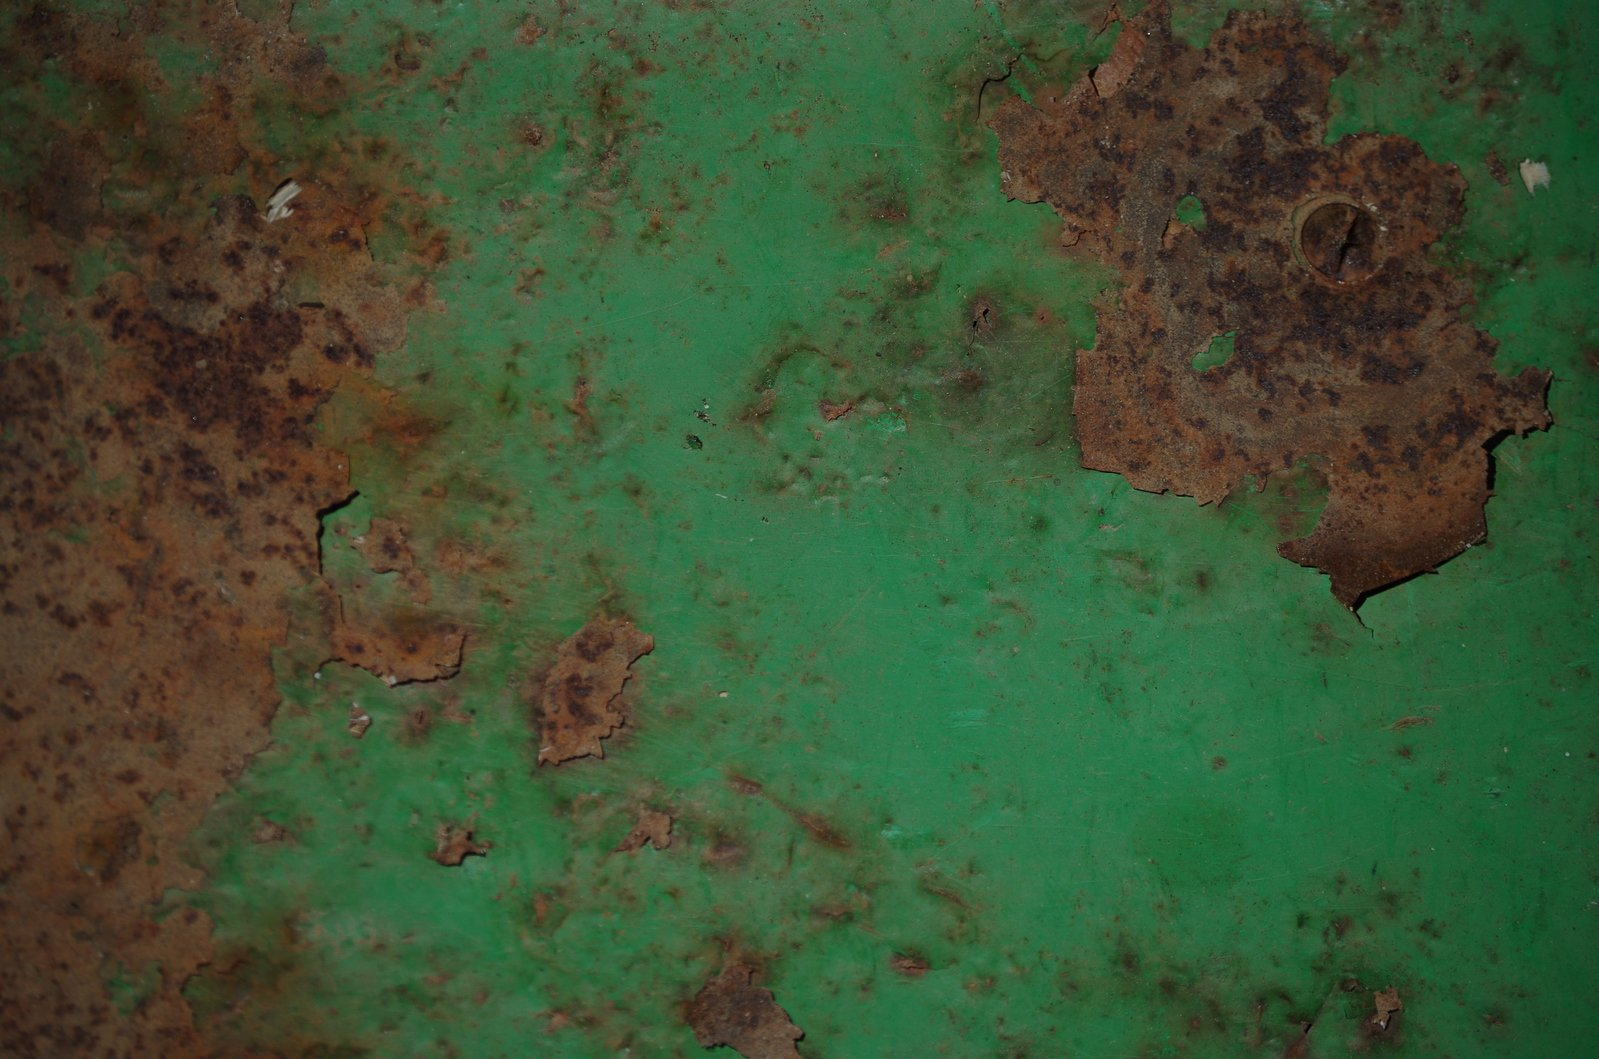rust: (931, 30, 1574, 621), (72, 220, 331, 495)
